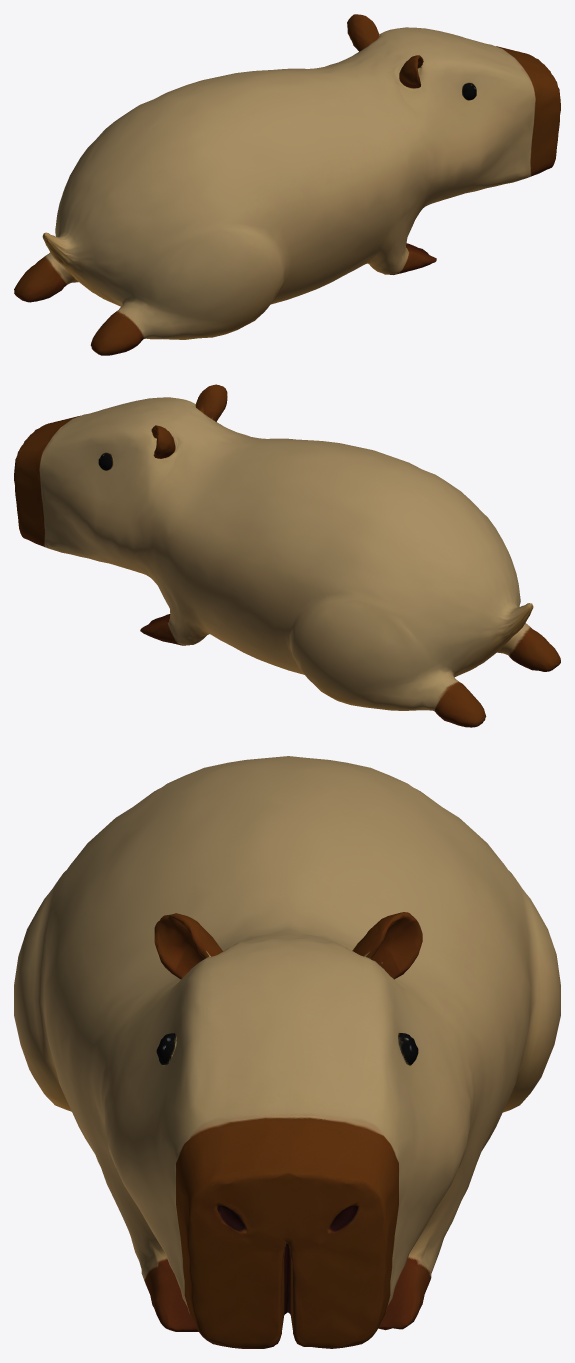
The picture shows the model from 3 angles, top to bottom: view 1: azimuth 30°, elevation 25°; view 2: azimuth 150°, elevation 25°; view 3: azimuth 270°, elevation 25°; orthographic projection. The views are drawn at different scales.
Visible parts, largest first — view 1: tripo_node_e4adb684-ddf2-4c9e-8fd4-02ffdb7f3e63; view 2: tripo_node_e4adb684-ddf2-4c9e-8fd4-02ffdb7f3e63; view 3: tripo_node_e4adb684-ddf2-4c9e-8fd4-02ffdb7f3e63.
Part boxes in pixels (bbox=[...]): tripo_node_e4adb684-ddf2-4c9e-8fd4-02ffdb7f3e63: bbox=[14, 14, 560, 355]; tripo_node_e4adb684-ddf2-4c9e-8fd4-02ffdb7f3e63: bbox=[14, 384, 560, 727]; tripo_node_e4adb684-ddf2-4c9e-8fd4-02ffdb7f3e63: bbox=[14, 756, 560, 1348].
Size of the model in its own units: 0.998 by 0.4082 by 0.4941.
1 material, 1 textured.
